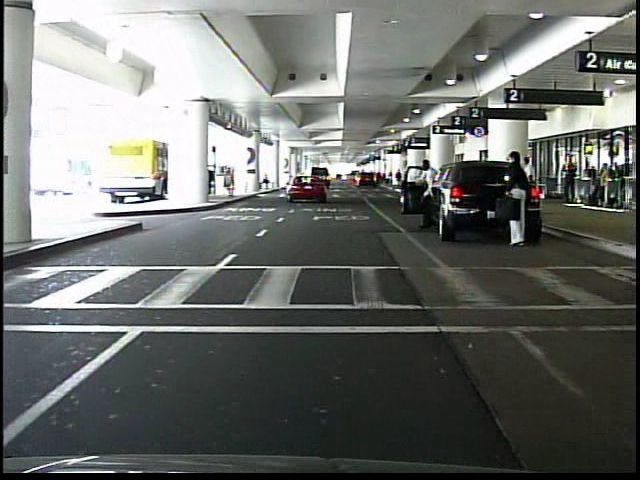person: (503, 153, 537, 254), (417, 158, 440, 234), (519, 154, 540, 215), (563, 159, 576, 204), (394, 169, 405, 190)
